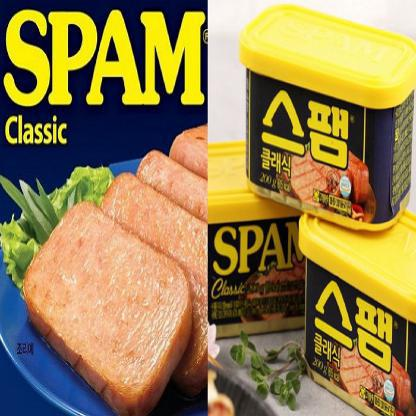spam: (242, 20, 412, 228), (54, 211, 180, 404), (300, 220, 416, 415), (119, 164, 206, 353)
